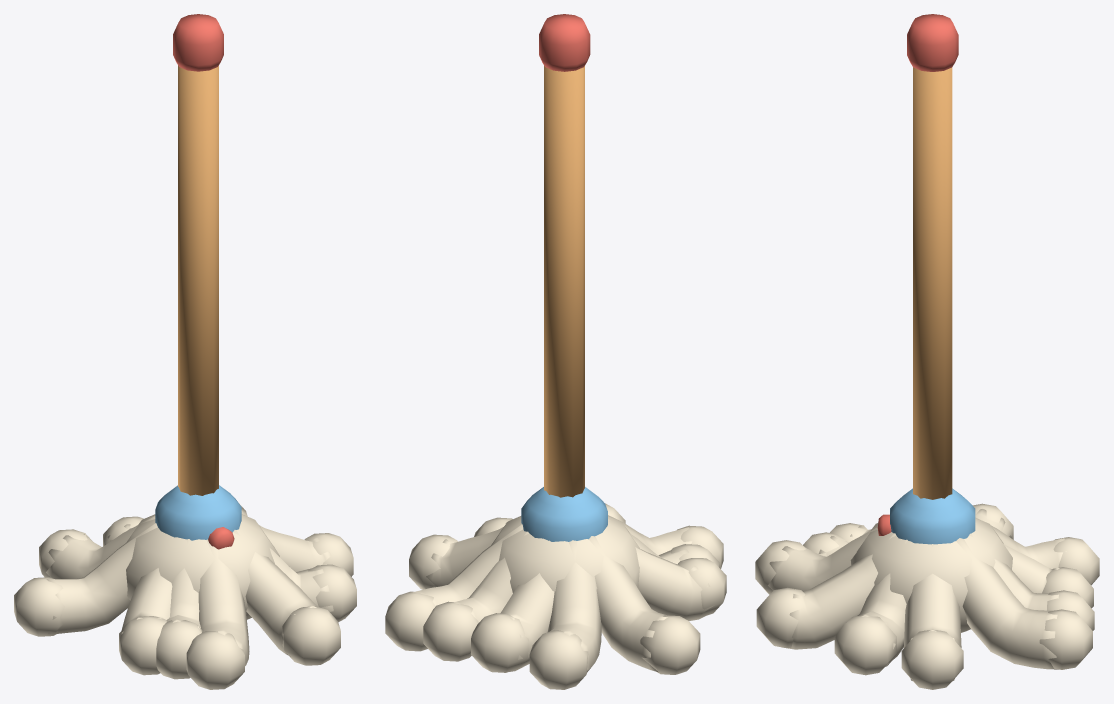
File: ShopMop.fbx
3 renders of one model, left to right at view 1: azimuth 30°, elevation 25°; view 2: azimuth 150°, elevation 25°; view 3: azimuth 270°, elevation 25°, orthographic.
Visible parts, largest first — view 1: ShopMop; view 2: ShopMop; view 3: ShopMop.
Boxes of the visible parts, left/top/right/bottom form: ShopMop: left=14, top=14, right=356, bottom=689; ShopMop: left=385, top=14, right=726, bottom=689; ShopMop: left=755, top=14, right=1099, bottom=689.
Size of the model in its own units: 0.6407 by 1.2 by 0.6143.
